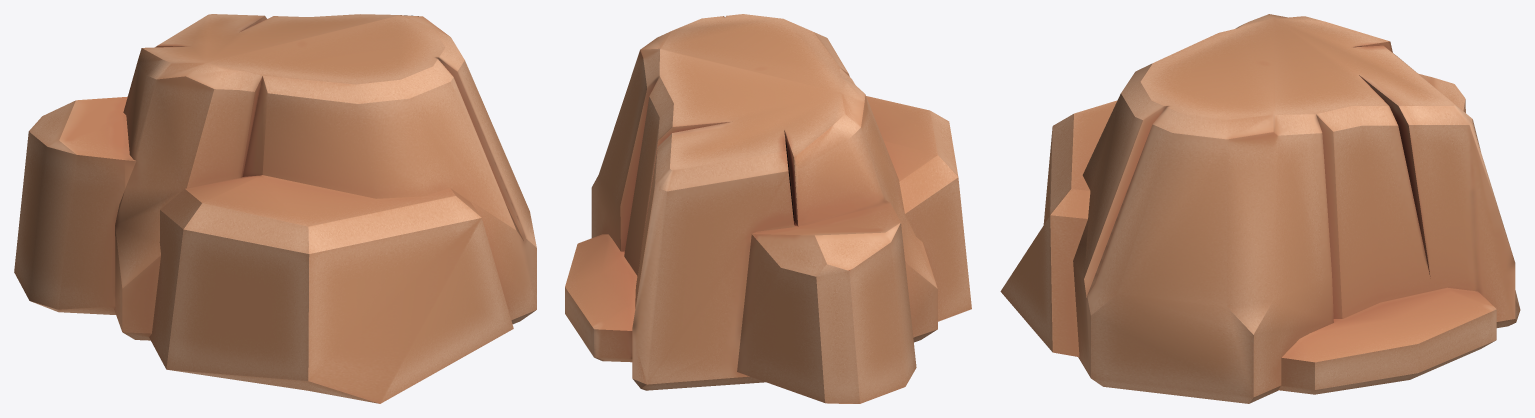
File: Rock 12.fbx
3 views of the same model, side by side, from view 1: azimuth 30°, elevation 25°; view 2: azimuth 150°, elevation 25°; view 3: azimuth 270°, elevation 25° (orthographic). The views are drawn at different scales.
Visible parts, largest first — view 1: Rock_12; view 2: Rock_12; view 3: Rock_12.
Boxes of the visible parts, x1,y1,x2,y2 form: Rock_12: (14,14,536,403); Rock_12: (565,14,971,403); Rock_12: (1000,14,1520,403).
Size of the model in its own units: 2.88 by 1.77 by 3.2.
